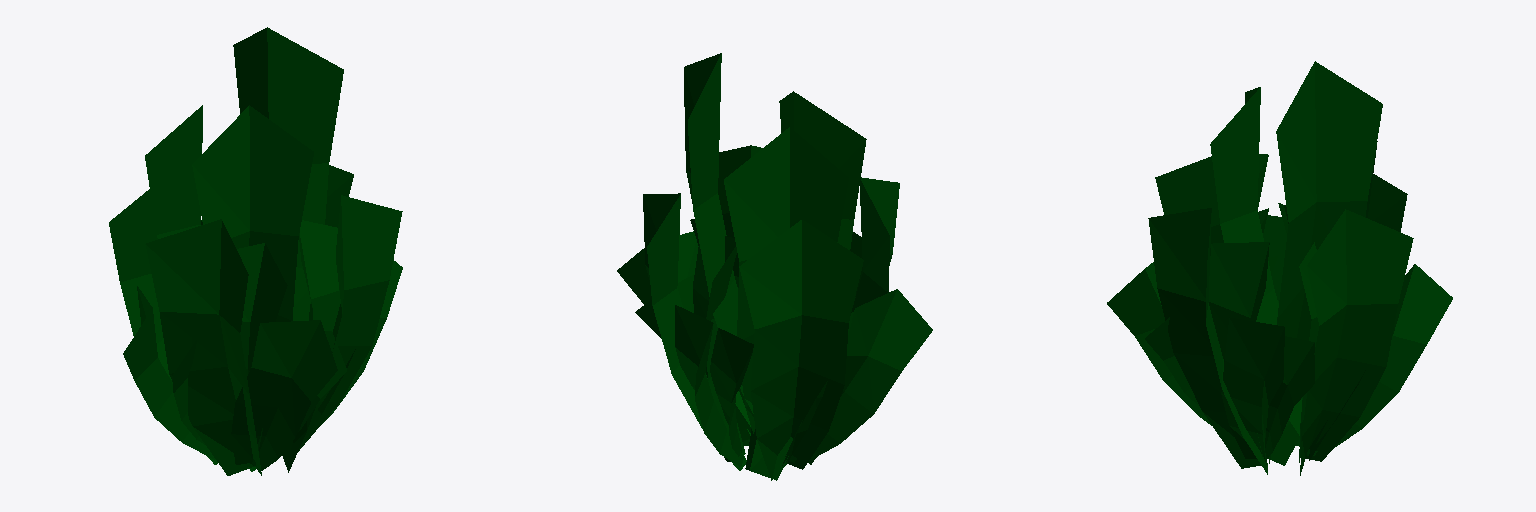
The model's file is wood1.obj.
3 views of the same model, side by side, from view 1: azimuth 30°, elevation 25°; view 2: azimuth 150°, elevation 25°; view 3: azimuth 270°, elevation 25° (orthographic).
Parts seen in each view (by area): view 1: Plane.001_LeavesSigs_0; view 2: Plane.001_LeavesSigs_0; view 3: Plane.001_LeavesSigs_0.
Part boxes in pixels (left/top/right/bottom): Plane.001_LeavesSigs_0: left=109, top=27, right=402, bottom=475; Plane.001_LeavesSigs_0: left=617, top=53, right=932, bottom=480; Plane.001_LeavesSigs_0: left=1107, top=61, right=1452, bottom=475.
Size of the model in its own units: 1.41 by 1.89 by 1.42.